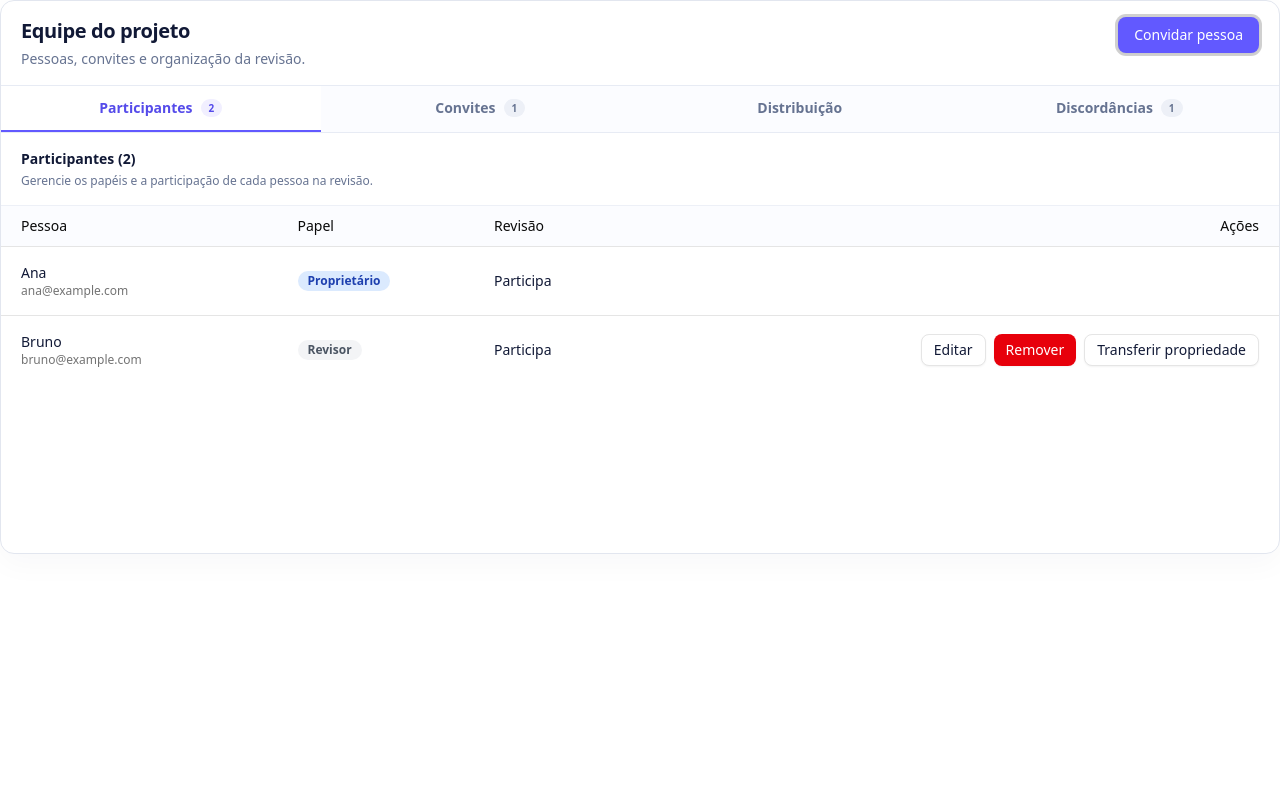
project team permissions and mutations › returns keyboard focus to Convidar pessoa after Escape
The width and height of the screenshot is (1280, 800).
Click the button "Convidar pessoa".
click(1189, 35)  # box [1118, 17, 1259, 53]
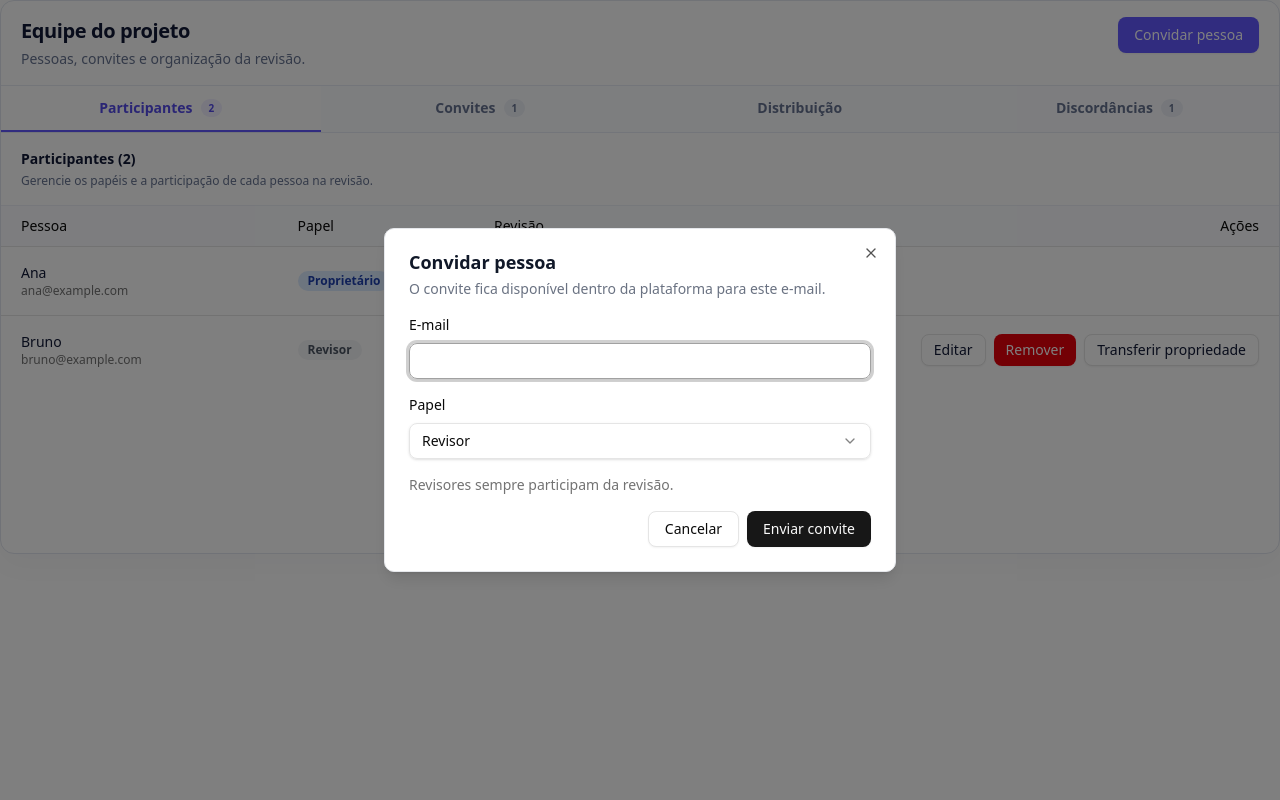
Press Escape in the dialog, box [384, 228, 896, 572]
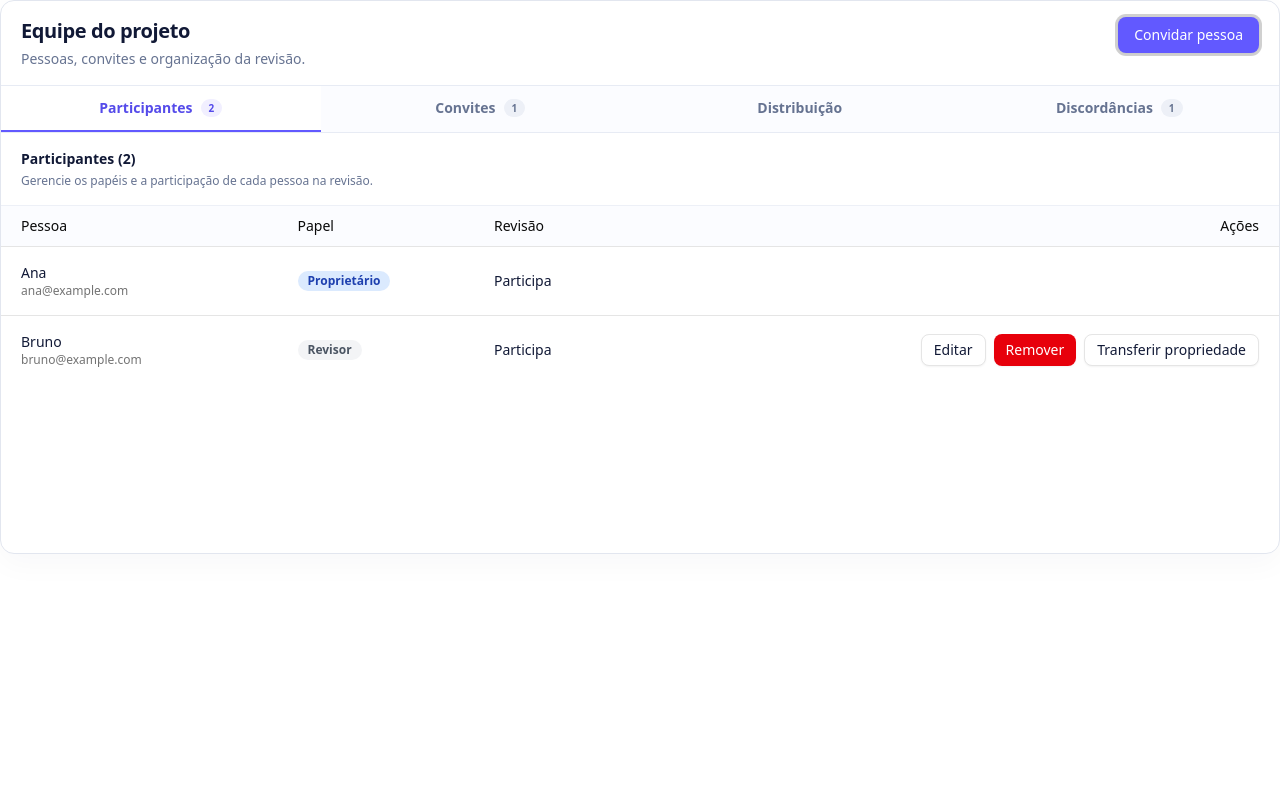
Expected: the dialog is gone
